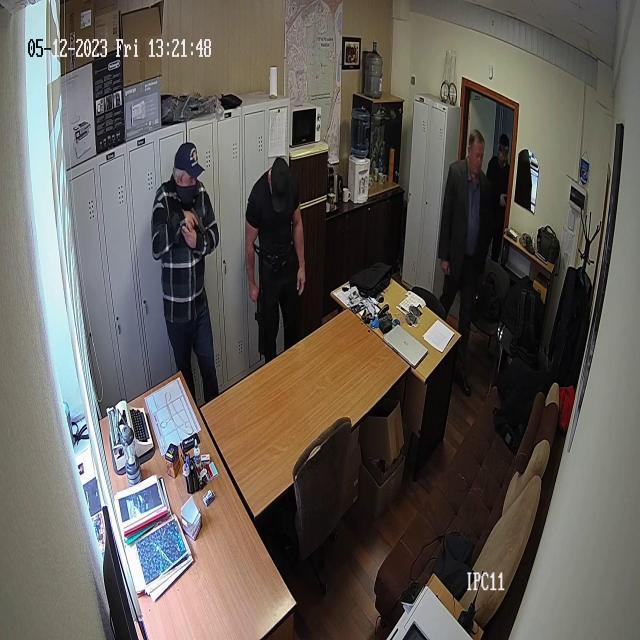pistol: (252, 240, 265, 360), (188, 202, 208, 241)
